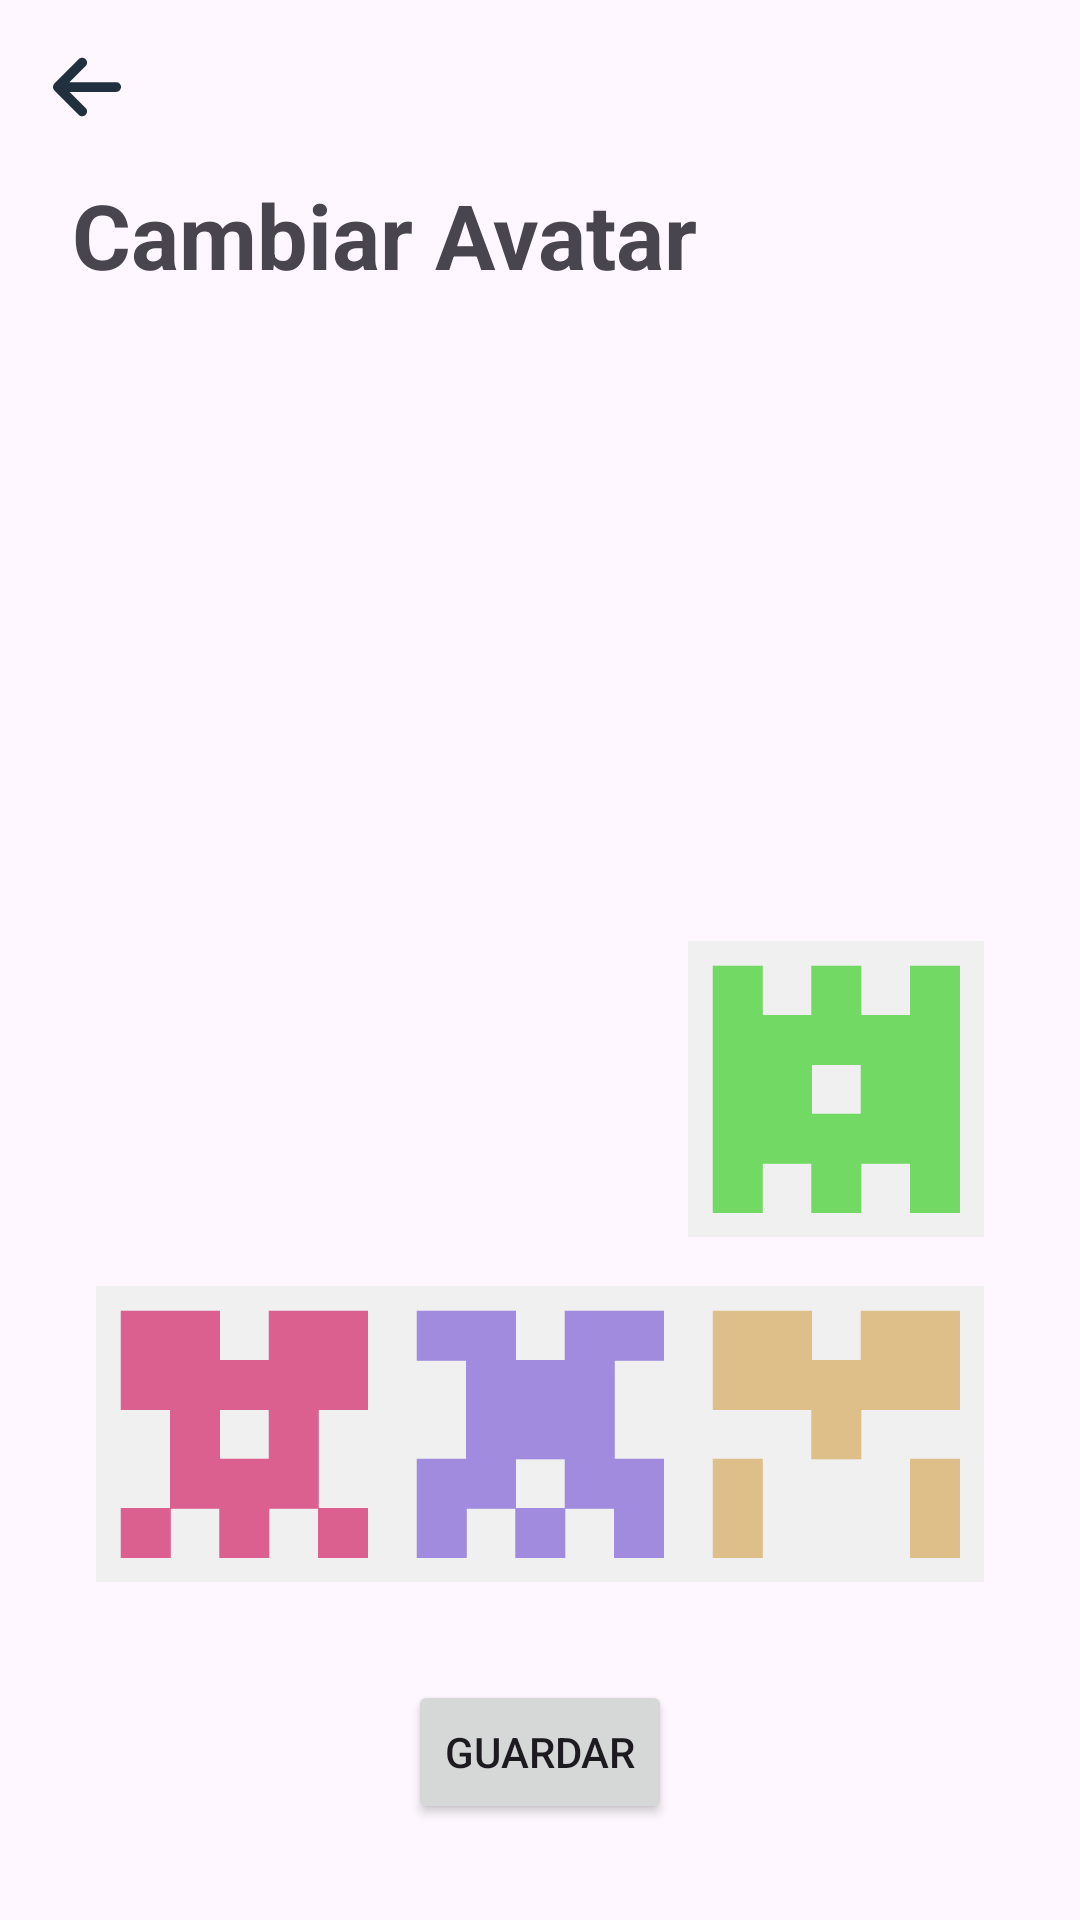

Named icons in this screenshot (1080w x 1920h) and their centers, (x=x, y=y):
go back arrow: (x=87, y=87)
